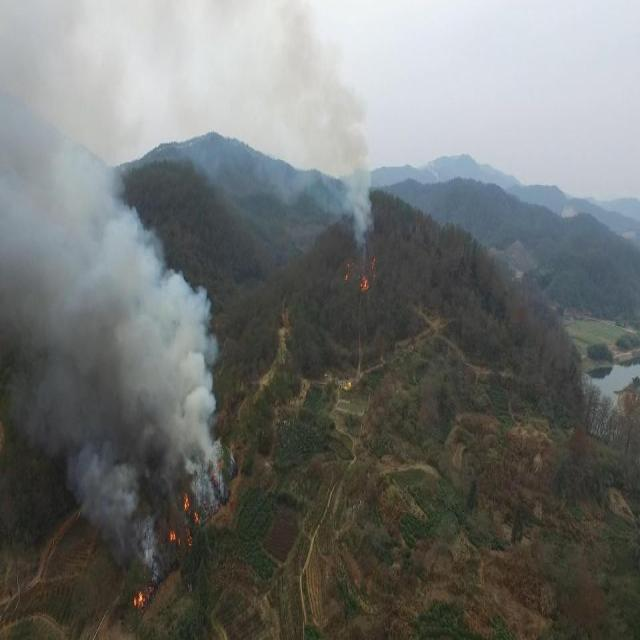Fire: (169, 492, 201, 552), (132, 583, 153, 612), (358, 272, 371, 290)
Smoke: (1, 1, 226, 580), (278, 1, 376, 262)
